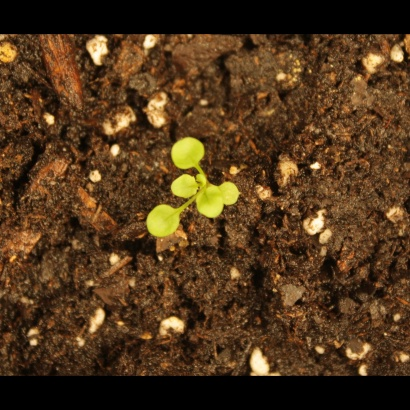leaf: (140, 204, 186, 240), (166, 137, 210, 170), (193, 182, 227, 221), (168, 173, 199, 201), (218, 180, 244, 207)
